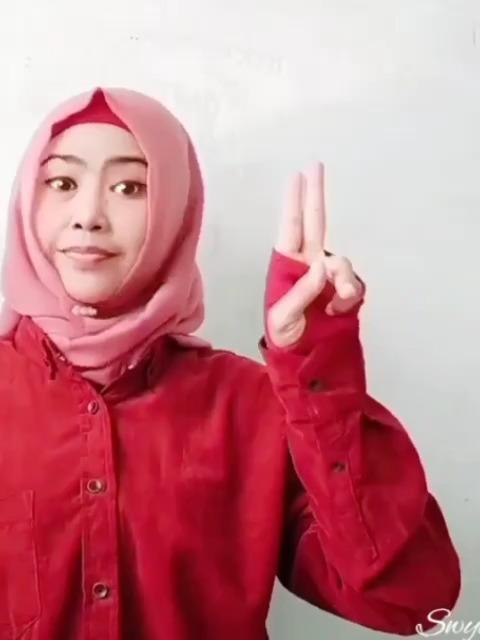U: (255, 158, 376, 358)
